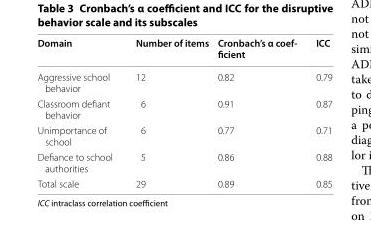table: (36, 36, 331, 189)
table column: (210, 36, 305, 189), (36, 36, 123, 189), (123, 36, 210, 189), (305, 36, 331, 189)
table column header: (36, 36, 331, 65)
table row: (36, 65, 331, 95), (36, 36, 331, 65), (36, 95, 331, 122), (36, 148, 331, 175), (36, 122, 331, 148), (36, 175, 331, 189)
